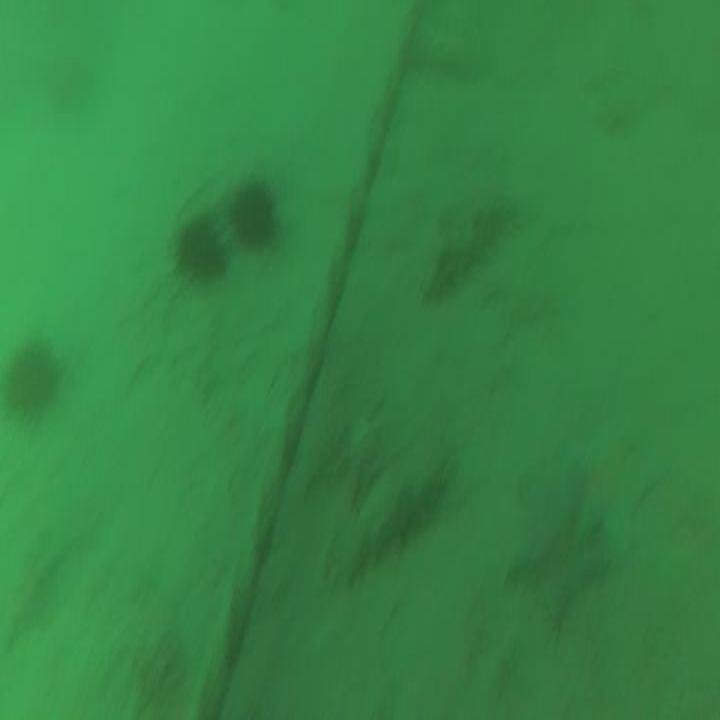echinus: (4, 338, 57, 414), (230, 183, 275, 256), (178, 222, 228, 283)
holothurian: (333, 446, 449, 582), (422, 185, 526, 297)
starfish: (509, 482, 605, 624), (571, 425, 661, 556)
